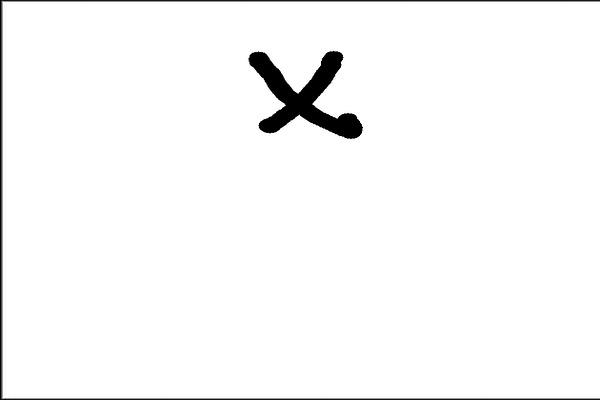X: (234, 39, 395, 157)
